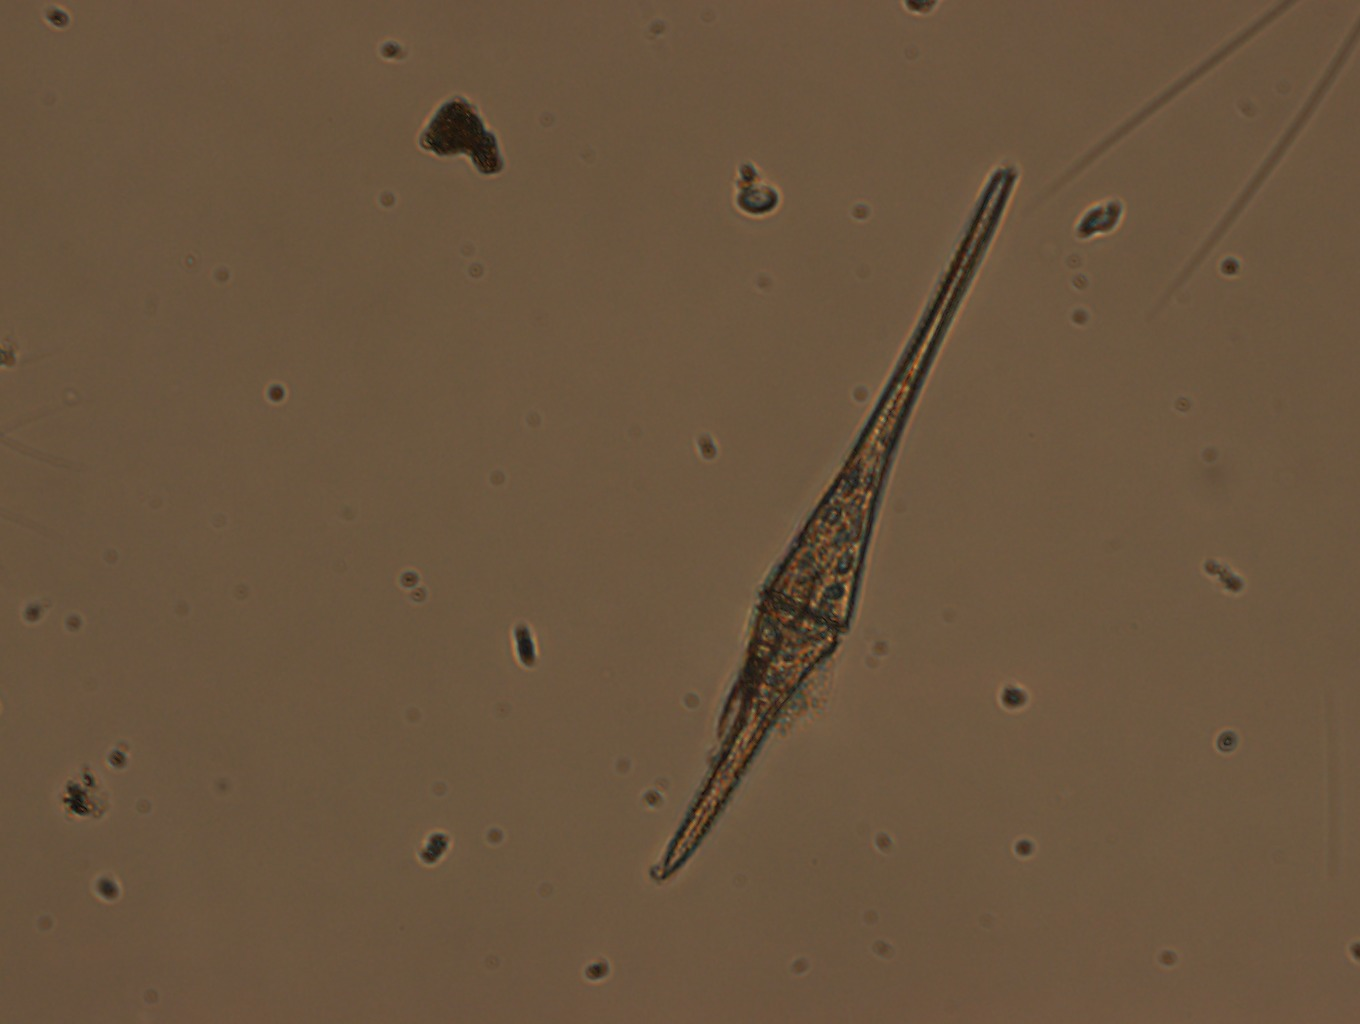ceratium furca: (578, 155, 1022, 885)
